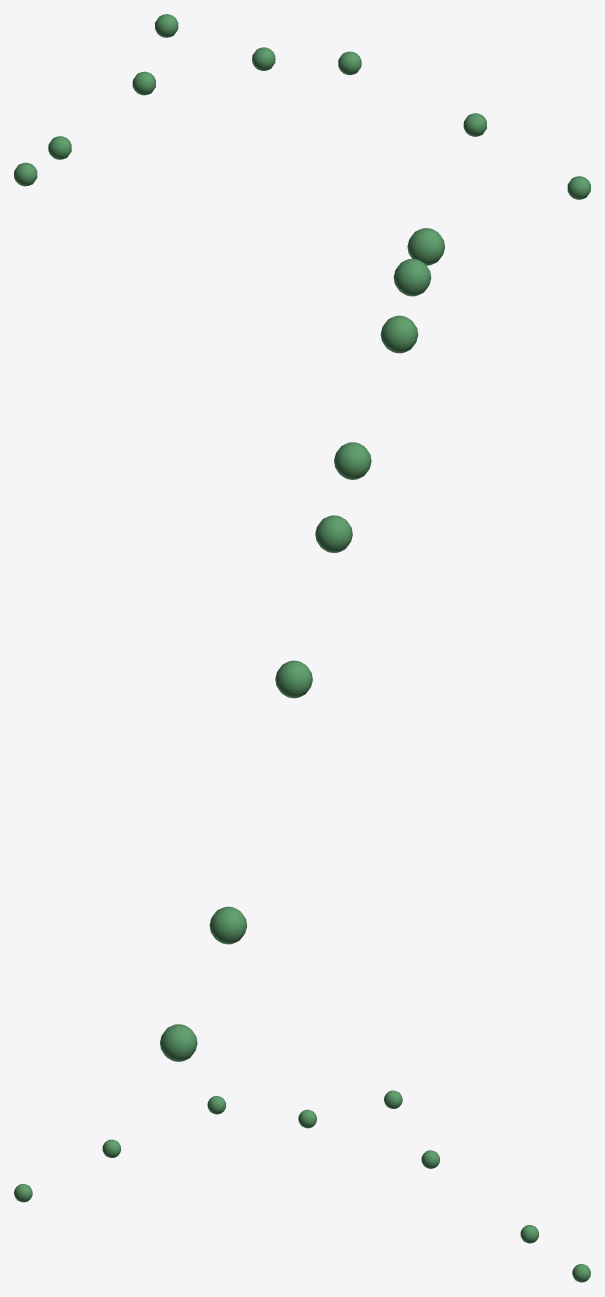
3 views of the same model, one above another, from view 1: azimuth 30°, elevation 25°; view 2: azimuth 150°, elevation 25°; view 3: azimuth 270°, elevation 25° (orthographic). The views are drawn at different scales.
Parts seen in each view (by area): view 1: 右侧髂外内侧淋巴结; view 2: 右侧髂外内侧淋巴结; view 3: 右侧髂外内侧淋巴结.
Boxes of the visible parts, x1=… form: 右侧髂外内侧淋巴结: x1=14, y1=14, x2=590, y2=199; 右侧髂外内侧淋巴结: x1=160, y1=228, x2=444, y2=1061; 右侧髂外内侧淋巴结: x1=14, y1=1090, x2=590, y2=1282.
Size of the model in its own units: 0.0401 by 0.0493 by 0.117.
